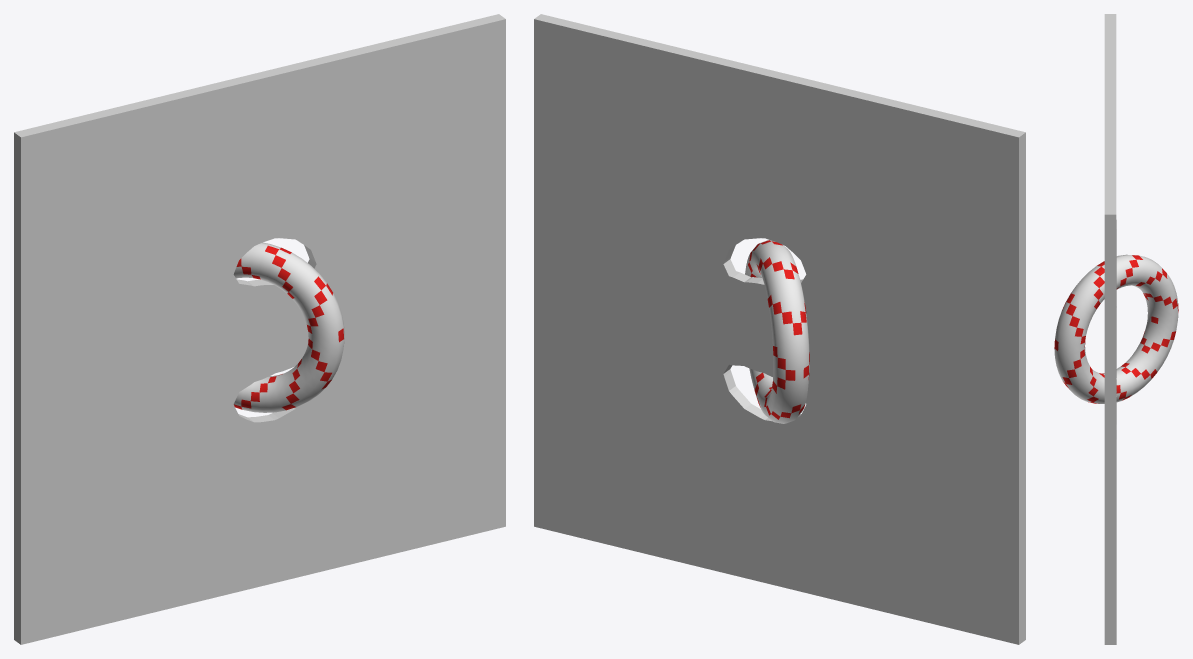
3 renders of one model, left to right at view 1: azimuth 30°, elevation 25°; view 2: azimuth 150°, elevation 25°; view 3: azimuth 270°, elevation 25°, orthographic. The views are drawn at different scales.
Parts seen in each view (by area): view 1: torusWall, Torus; view 2: torusWall, Torus; view 3: Torus, torusWall.
Boxes of the visible parts, left/top/right/bottom form: torusWall: left=14, top=14, right=505, bottom=644; Torus: left=233, top=242, right=344, bottom=412; torusWall: left=534, top=14, right=1025, bottom=644; Torus: left=745, top=240, right=809, bottom=423; Torus: left=1054, top=254, right=1178, bottom=403; torusWall: left=1104, top=14, right=1116, bottom=644.
Bounding box in the file's own units: 400 × 400 × 105.
